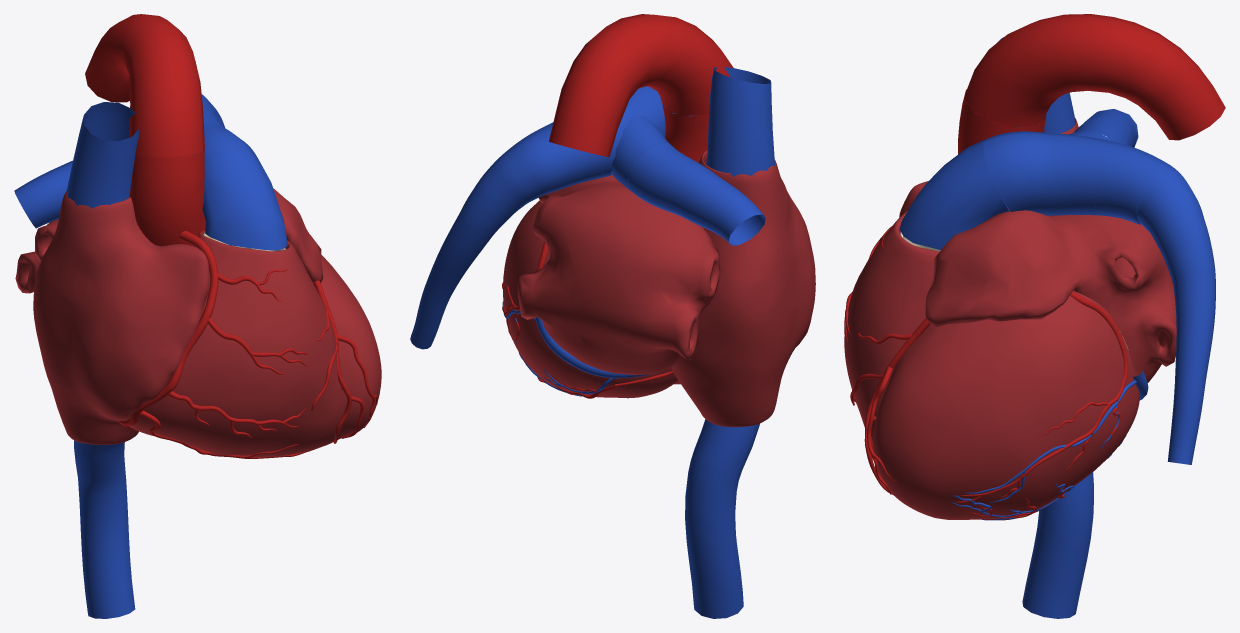
File: heart.obj
3 renders of one model, left to right at view 1: azimuth 30°, elevation 25°; view 2: azimuth 150°, elevation 25°; view 3: azimuth 270°, elevation 25°, orthographic. The views are drawn at different scales.
Parts seen in each view (by area): view 1: Right_atrium, Right_ventricle, Aortic_arch, Inferior_vena_cava_(thoracic_part), Pulmonary_trunk, Ascending_aorta, Superior_vena_cava, Left_ventricle, Right_coronary_artery, Left_atrium, Right_pulmonary_artery, Anterior_interventricular_artery (+1 smaller); view 2: Left_atrium, Right_atrium, Aortic_arch, Left_pulmonary_artery, Inferior_vena_cava_(thoracic_part), Right_pulmonary_artery, Left_ventricle, Superior_vena_cava, Bifurcation_of_pulmonary_trunk, Ascending_aorta, Coronary_sinus; view 3: Left_ventricle, Left_atrium, Aortic_arch, Left_pulmonary_artery, Right_ventricle, Bifurcation_of_pulmonary_trunk, Inferior_vena_cava_(thoracic_part), Pulmonary_trunk, Anterior_interventricular_artery, Circumflex_artery_of_heart, Ascending_aorta, Right_pulmonary_artery (+2 smaller).
Boxes of the visible parts, x1,y1,x2,y2 form: Right_atrium: (33, 191, 209, 444); Right_ventricle: (123, 230, 344, 456); Aortic_arch: (85, 14, 204, 157); Inferior_vena_cava_(thoracic_part): (74, 440, 135, 618); Pulmonary_trunk: (202, 151, 287, 250); Ascending_aorta: (129, 149, 205, 246); Superior_vena_cava: (66, 102, 139, 208); Left_ventricle: (321, 255, 381, 439); Right_coronary_artery: (118, 231, 318, 458); Left_atrium: (15, 188, 323, 293); Right_pulmonary_artery: (14, 160, 72, 228); Anterior_interventricular_artery: (311, 280, 377, 443); Left_atrium: (517, 175, 720, 375); Right_atrium: (671, 150, 815, 426); Aortic_arch: (549, 14, 733, 157); Left_pulmonary_artery: (410, 122, 606, 349); Inferior_vena_cava_(thoracic_part): (685, 419, 759, 618); Right_pulmonary_artery: (628, 142, 765, 245); Left_ventricle: (503, 200, 678, 398); Superior_vena_cava: (706, 67, 774, 177); Bifurcation_of_pulmonary_trunk: (595, 86, 677, 191); Ascending_aorta: (662, 104, 708, 162); Coronary_sinus: (535, 317, 647, 378); Left_ventricle: (873, 291, 1140, 519); Left_atrium: (925, 209, 1176, 382); Aortic_arch: (964, 14, 1225, 140); Left_pulmonary_artery: (1093, 141, 1215, 464); Right_ventricle: (844, 210, 939, 442); Bifurcation_of_pulmonary_trunk: (983, 130, 1112, 215); Inferior_vena_cava_(thoracic_part): (1022, 472, 1093, 618); Pulmonary_trunk: (899, 139, 1009, 249); Anterior_interventricular_artery: (850, 318, 930, 494); Circumflex_artery_of_heart: (952, 292, 1128, 502); Ascending_aorta: (958, 89, 1046, 154); Right_pulmonary_artery: (1074, 109, 1138, 147).
Size of the model in its own units: 0.1279 by 0.2264 by 0.1243.
